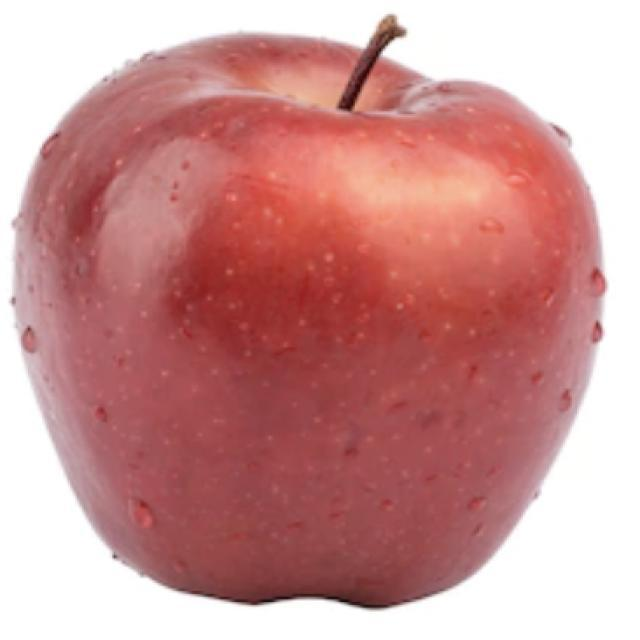Fresh Apple: (21, 48, 606, 640)
